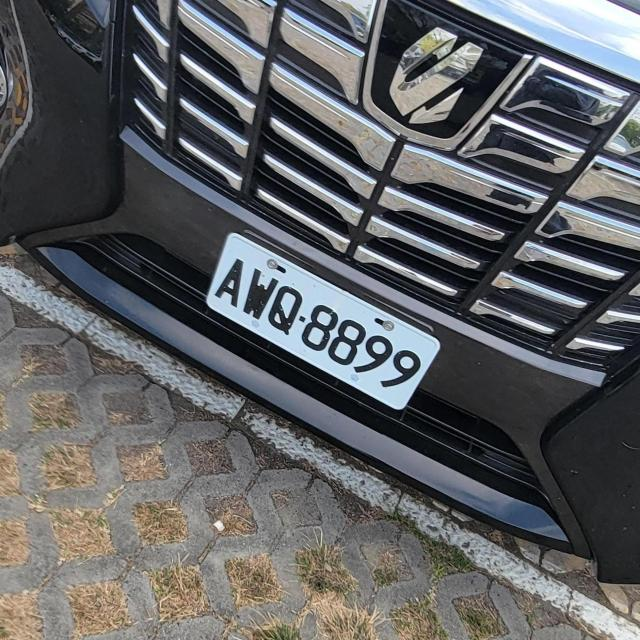W: (197, 232, 449, 413)
